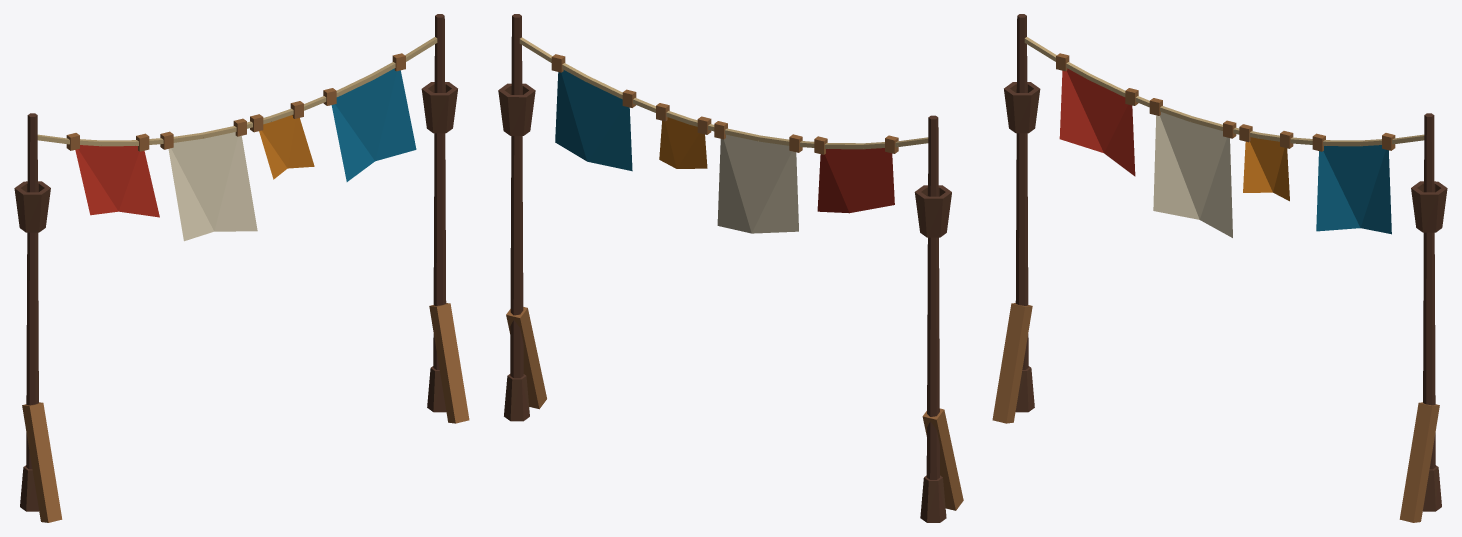
File: washing-line.glb
3 views of the same model, side by side, from view 1: azimuth 30°, elevation 25°; view 2: azimuth 150°, elevation 25°; view 3: azimuth 330°, elevation 25° (orthographic). The views are drawn at different scales.
Visible parts, largest first — view 1: washing-line; view 2: washing-line; view 3: washing-line.
Part boxes in pixels (x1,y1,x2,y2): washing-line: [14, 14, 469, 522]; washing-line: [498, 14, 963, 522]; washing-line: [992, 14, 1447, 522].
Size of the model in its own units: 2.52 by 2.18 by 0.3179.
